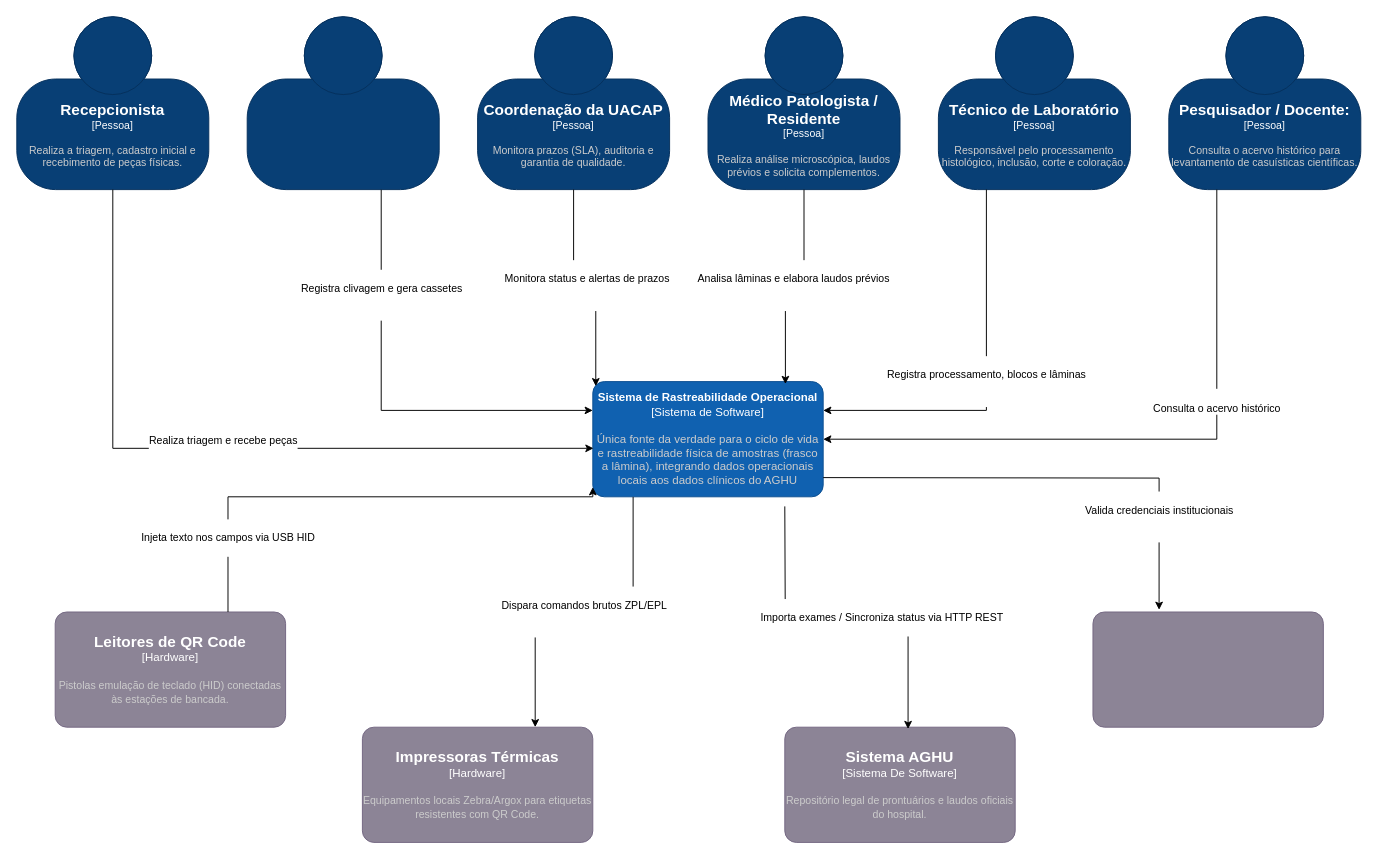
The diagram is 1378 pixels wide and 859 high, and some of its shapes have lost their labels. The centre of each missing label's shape, as x and y in pixels:
"LDAP [Infraestrutura] Infraestrutura corporativa hospitalar para autenticação." belongs at point (1207, 669).
"Macroscopista [Pessoa] Executa a abertura de peças e clivagem inicial." belongs at point (342, 103).
